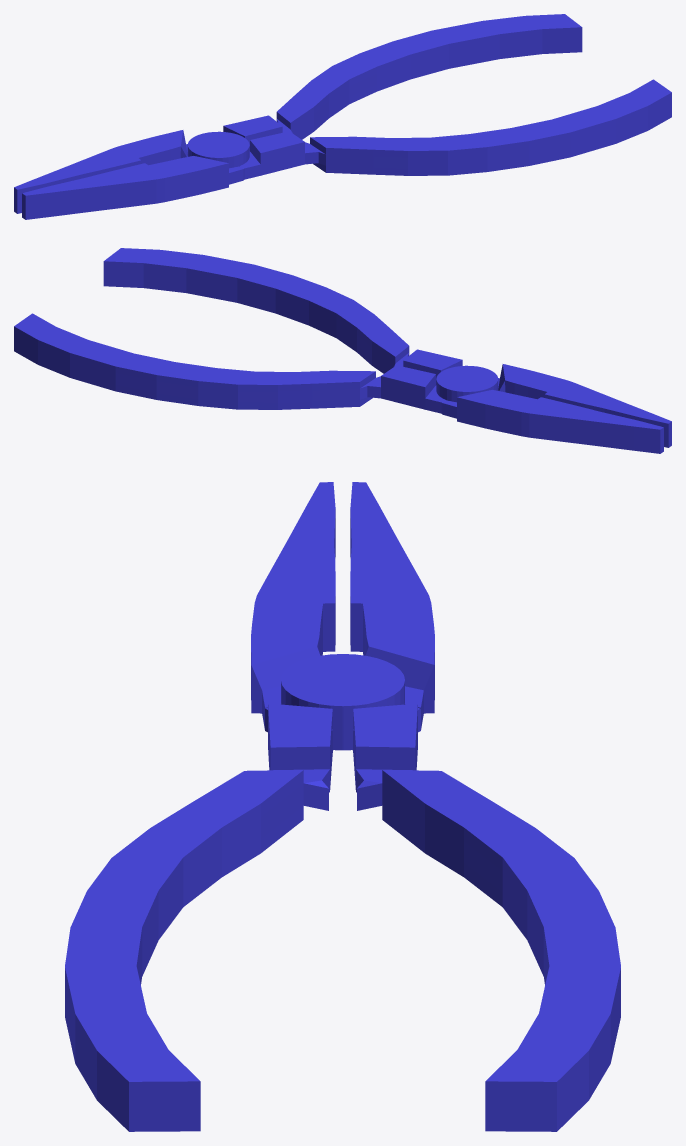
Rendered from Zange_LowPoly.fbx.
3 views of the same model, one above another, from view 1: azimuth 30°, elevation 25°; view 2: azimuth 150°, elevation 25°; view 3: azimuth 270°, elevation 25° (orthographic). The views are drawn at different scales.
Visible parts, largest first — view 1: Plane.001; view 2: Plane.001; view 3: Plane.001.
Boxes of the visible parts, x1=… form: Plane.001: x1=14, y1=14, x2=671, y2=219; Plane.001: x1=14, y1=248, x2=671, y2=453; Plane.001: x1=65, y1=482, x2=620, y2=1131.
Bounding box in the file's own units: 970 × 50.62 × 390.
